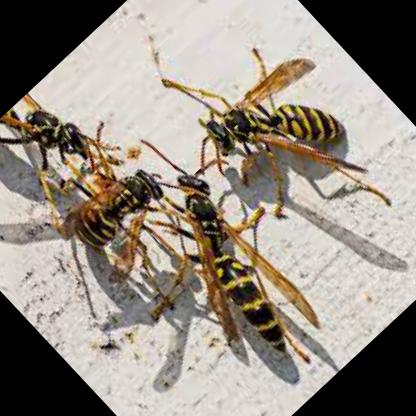other: (151, 0, 415, 259), (37, 134, 192, 290)
